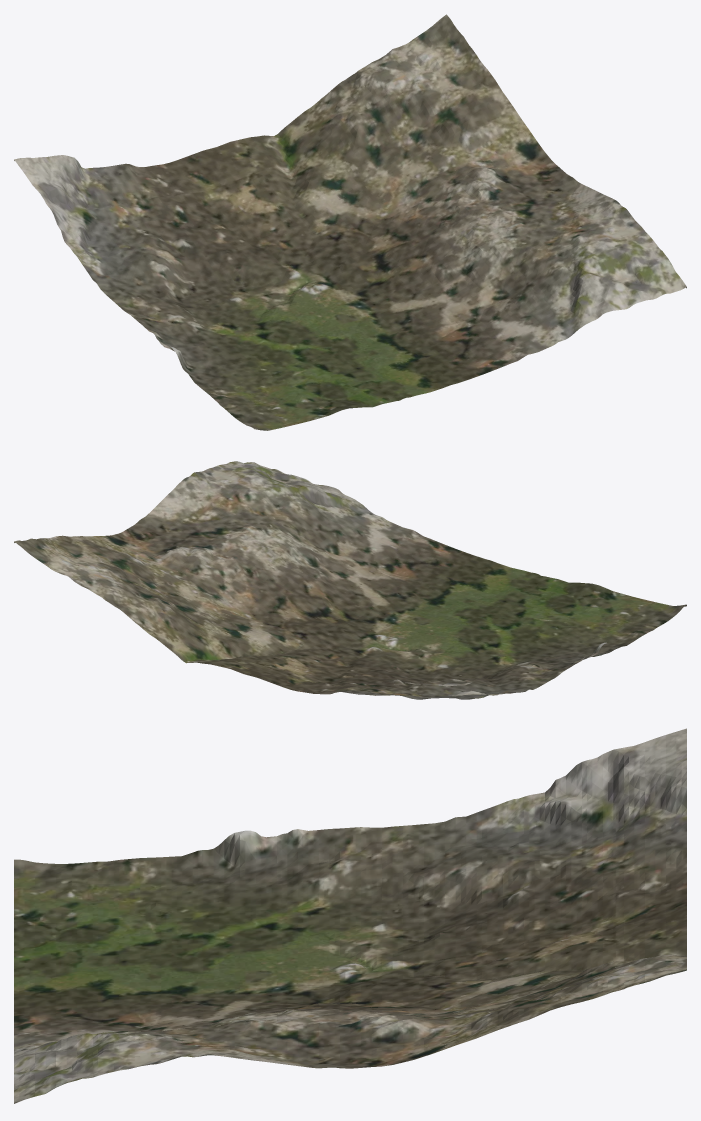
3 views of the same model, one above another, from view 1: azimuth 30°, elevation 25°; view 2: azimuth 150°, elevation 25°; view 3: azimuth 270°, elevation 25° (orthographic). The views are drawn at different scales.
Bounding box in the file's own units: 250 × 78.58 × 241.
1 material, 1 textured.
